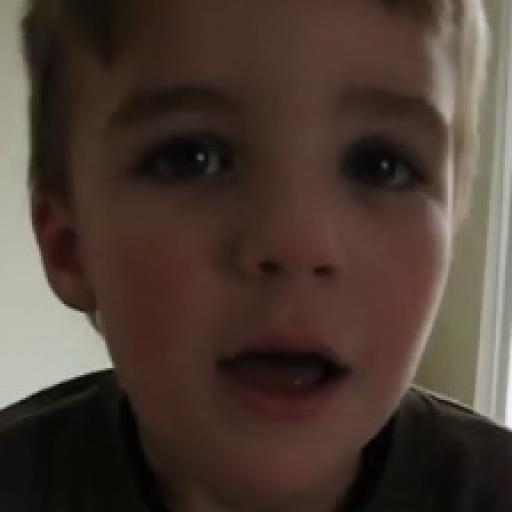Autism: (77, 10, 464, 486)
